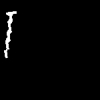half_double_crochet: (4, 12, 15, 57)
